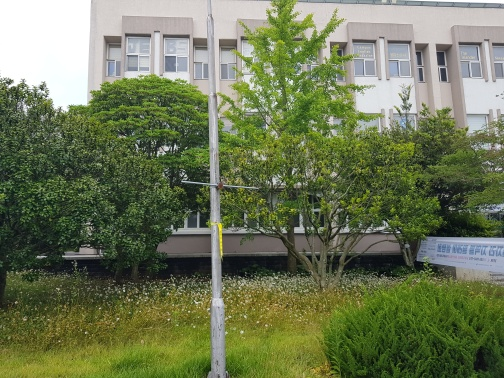Main Building of University: (94, 4, 503, 274)
